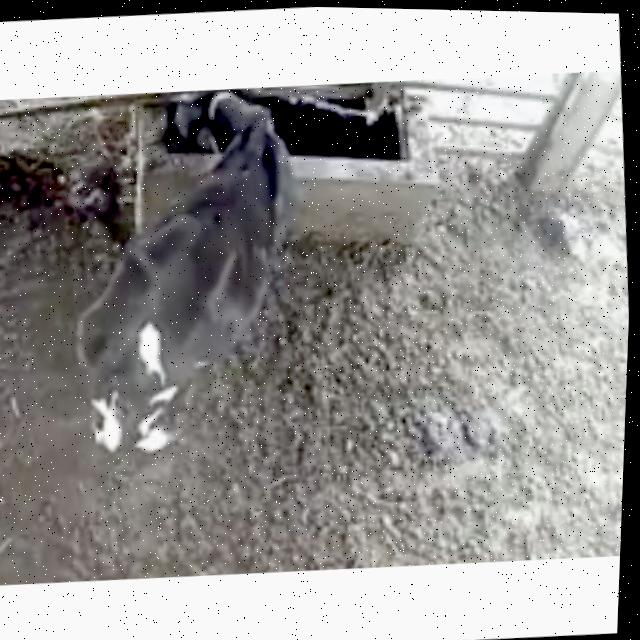drink: (147, 79, 329, 211)
